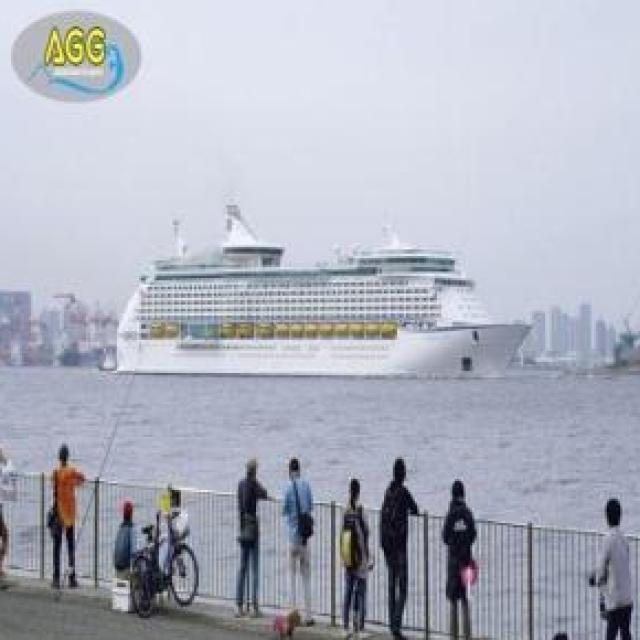passenger ship: (96, 206, 516, 376)
